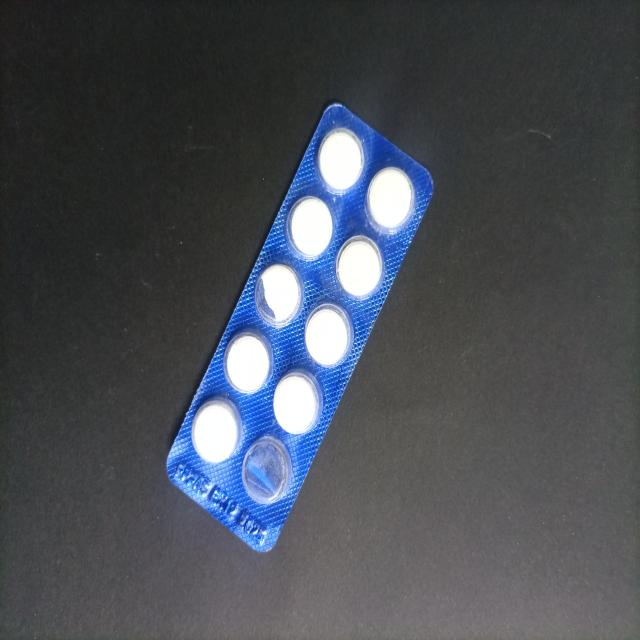defect: (241, 434, 294, 506), (253, 262, 305, 330)
